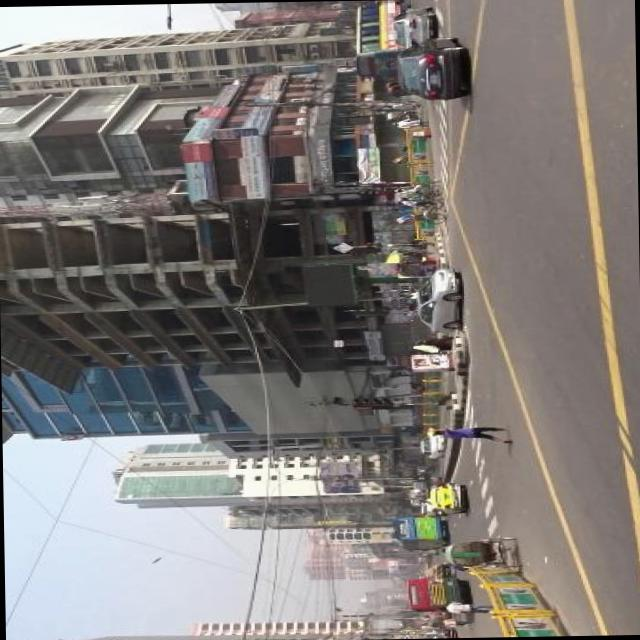bus: (352, 4, 411, 76), (403, 576, 462, 612), (391, 515, 448, 551)
car: (395, 36, 467, 100), (415, 268, 462, 332), (388, 7, 438, 48), (422, 482, 464, 514), (417, 432, 442, 459)
motorcycle: (441, 534, 522, 568), (390, 184, 443, 225), (391, 178, 441, 205), (382, 98, 422, 121), (386, 144, 424, 163), (421, 610, 453, 620), (384, 84, 410, 95), (412, 465, 434, 474)
